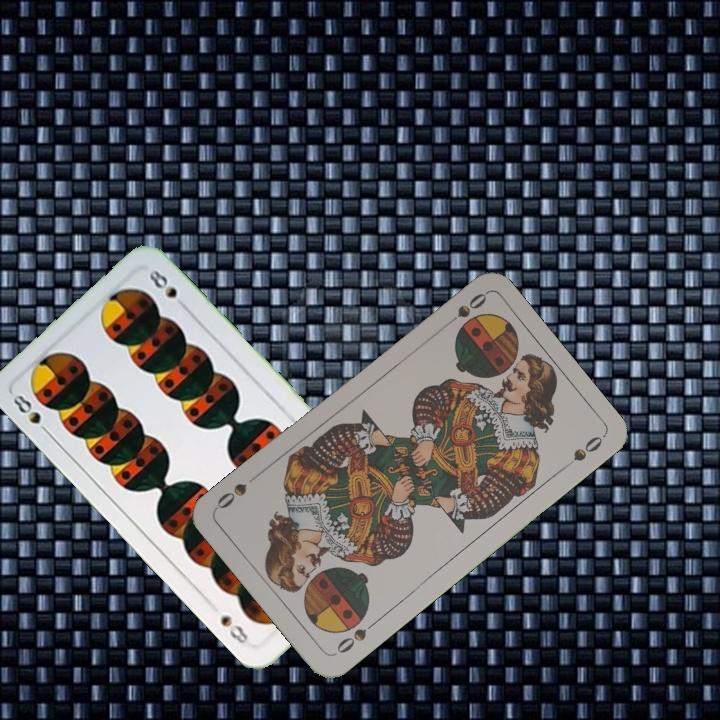S8: (9, 390, 54, 439)
SO: (440, 288, 490, 332), (330, 616, 380, 658)
